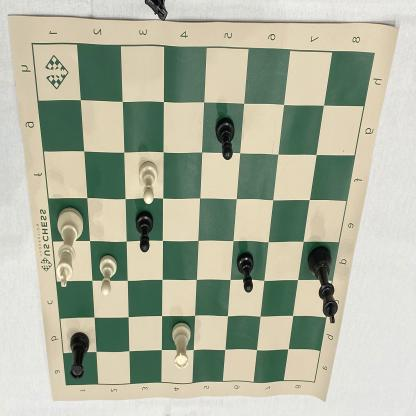black-king: (304, 241, 341, 328)
black-pawn: (210, 111, 240, 165), (231, 247, 259, 300), (130, 207, 156, 259)
black-rook: (65, 326, 93, 384)
white-king: (52, 202, 90, 293)
white-pawn: (134, 156, 162, 207), (94, 252, 120, 300)
white-rook: (167, 314, 195, 372)
